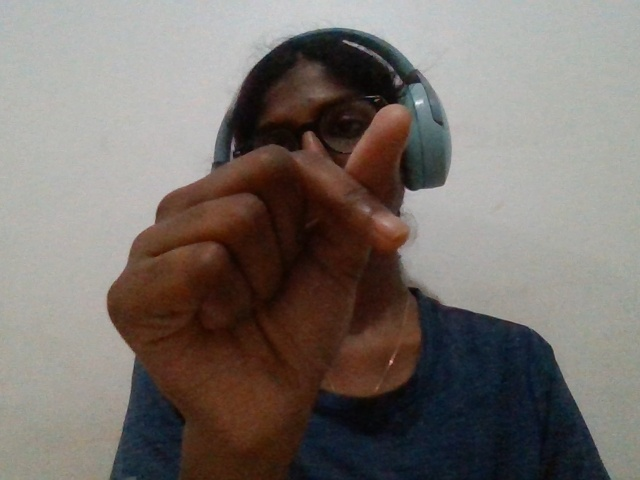G: (97, 52, 442, 480)
